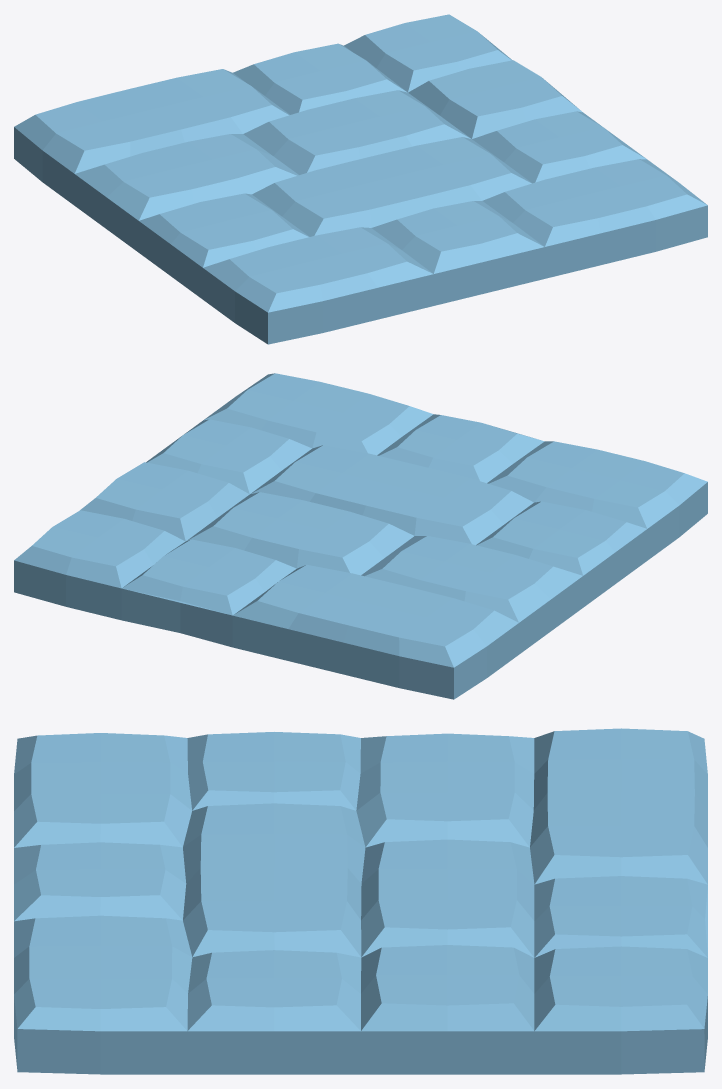
File: bricks style 1.fbx
3 views of the same model, one above another, from view 1: azimuth 30°, elevation 25°; view 2: azimuth 150°, elevation 25°; view 3: azimuth 270°, elevation 25° (orthographic). The views are drawn at different scales.
Visible parts, largest first — view 1: Cube.032; view 2: Cube.032; view 3: Cube.032.
Part boxes in pixels (bbox=[...]): Cube.032: bbox=[14, 14, 707, 344]; Cube.032: bbox=[14, 373, 707, 699]; Cube.032: bbox=[14, 728, 707, 1074].
Bounding box in the file's own units: 300 × 30 × 300.
